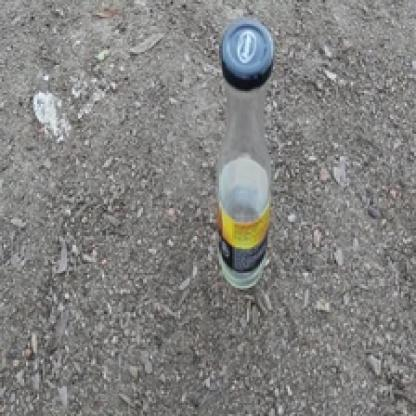Can: (216, 18, 274, 292)
